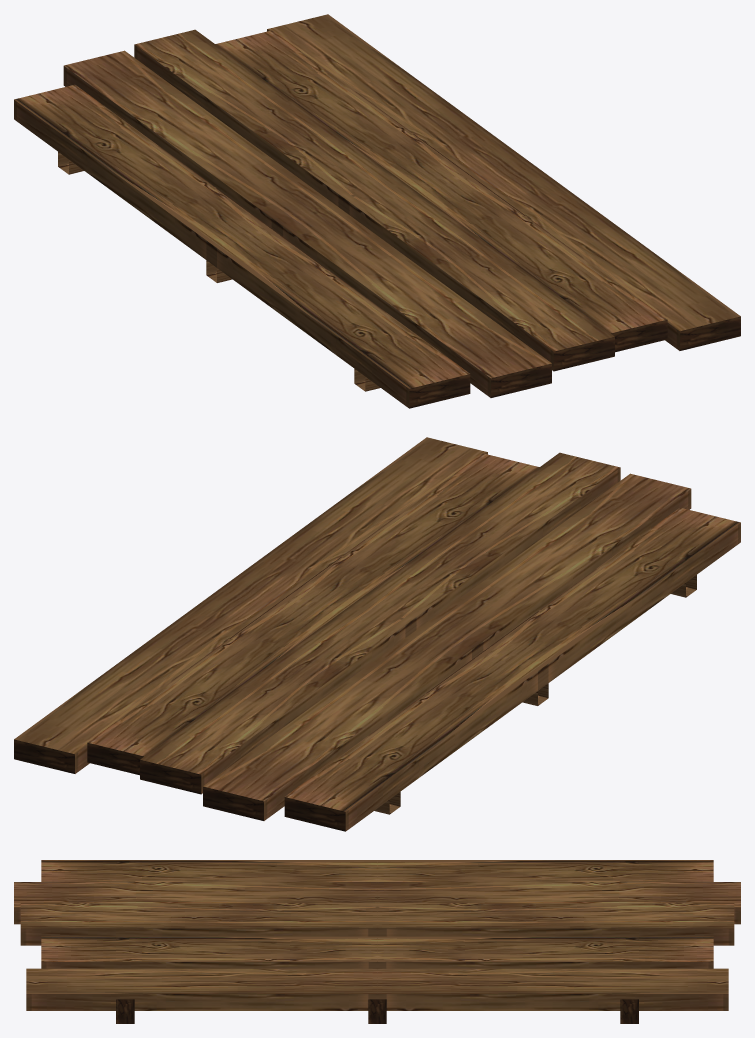
File: fanasty_mod_wooden_pallet.fbx
3 renders of one model, top to bottom at view 1: azimuth 30°, elevation 25°; view 2: azimuth 150°, elevation 25°; view 3: azimuth 270°, elevation 25°, orthographic. The views are drawn at different scales.
Visible parts, largest first — view 1: wooden_pallet; view 2: wooden_pallet; view 3: wooden_pallet.
Part boxes in pixels (x1,y1,x2,y2): wooden_pallet: (14,14,740,408); wooden_pallet: (14,437,740,831); wooden_pallet: (14,860,740,1023).
Bounding box in the file's own units: 1.26 × 0.1817 × 2.88.
